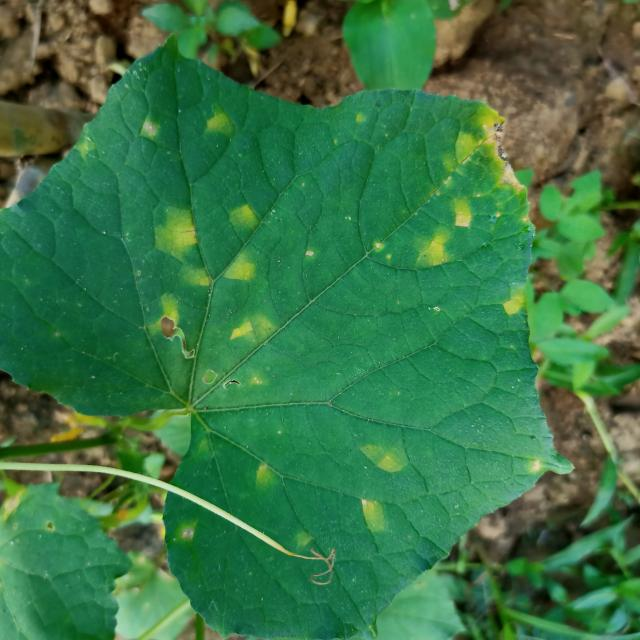disease_cucumber: (142, 178, 278, 401), (414, 102, 527, 270), (350, 436, 408, 536), (241, 452, 280, 497), (200, 102, 235, 147), (506, 279, 534, 323)
